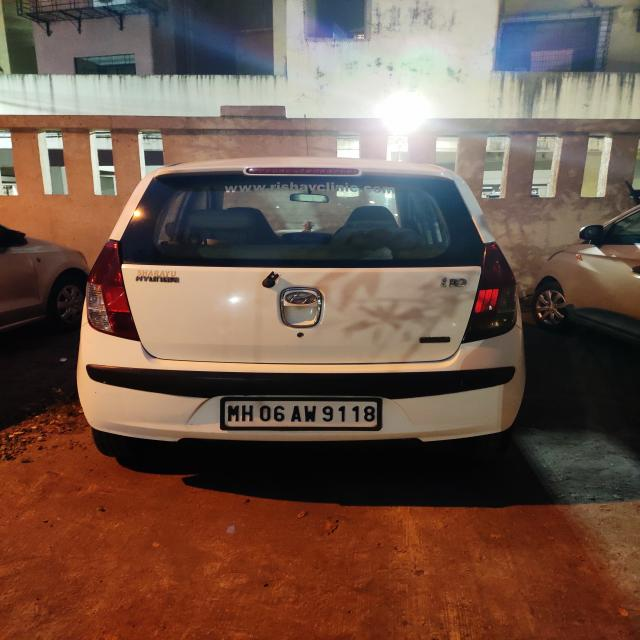Number-Plate: (221, 398, 380, 430)
